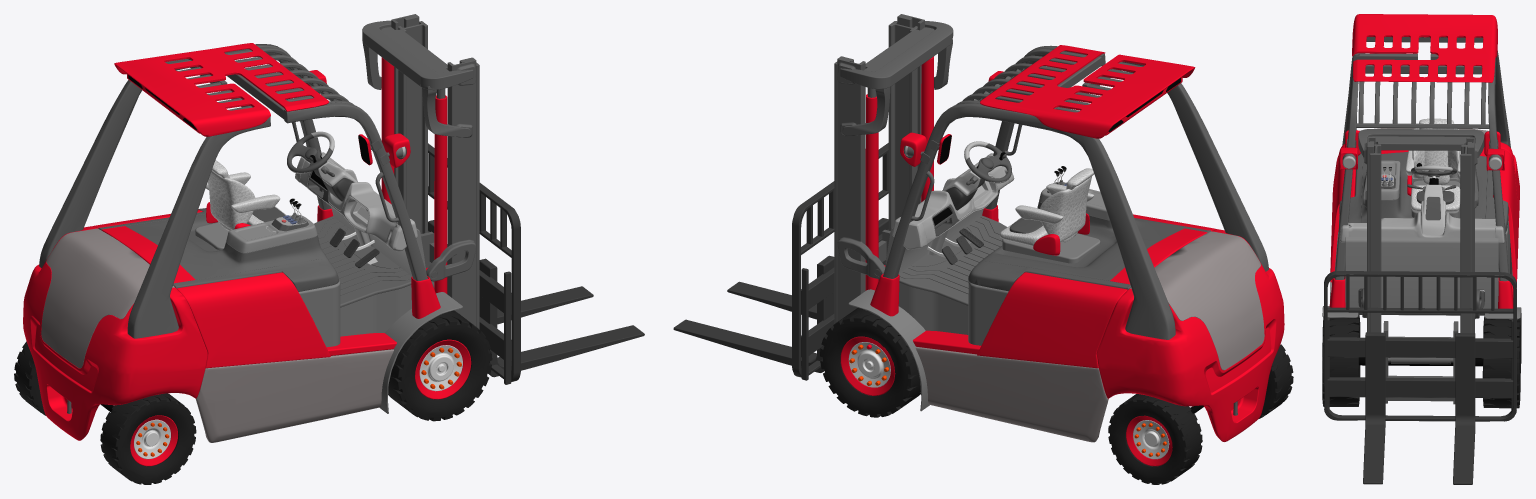
The model's file is forklift-optimized.glb.
The picture shows the model from 3 angles, left to right: view 1: azimuth 30°, elevation 25°; view 2: azimuth 150°, elevation 25°; view 3: azimuth 270°, elevation 25°; orthographic projection. The views are drawn at different scales.
Visible parts, largest first — view 1: 身6 (×4), 门架 (×9), 轮 (×7), 特别 (×3), 一电 (×5), 预设值, 货叉 (×5), 骨架, 板 (×2), 最终操作台, 身5; view 2: 身6 (×4), 门架 (×9), 轮 (×7), 特别 (×3), 一电 (×5), 预设值, 货叉 (×5), 骨架, 板 (×2), 最终操作台, 身5; view 3: 货叉 (×6), 门架 (×8), 新内饰1 (×3), 预设值, 一电 (×9), 特别 (×3), 轮 (×2), 护顶架 (×9), 身6 (×3), 最终操作台, 身5 (×2), 骨架 (+2 smaller).
Boxes of the visible parts, <box> form: 身6 (×4): <box>23,226,393,442</box>; 门架 (×9): <box>362,14,479,329</box>; 轮 (×7): <box>14,310,492,484</box>; 特别 (×3): <box>39,44,427,338</box>; 一电 (×5): <box>101,171,338,291</box>; 预设值: <box>114,43,328,136</box>; 货叉 (×5): <box>428,143,644,384</box>; 骨架: <box>298,280,462,413</box>; 板 (×2): <box>314,216,411,355</box>; 最终操作台: <box>295,152,417,276</box>; 身5: <box>411,276,440,318</box>; 身6 (×4): <box>915,229,1284,442</box>; 门架 (×9): <box>834,14,953,323</box>; 轮 (×7): <box>820,308,1293,484</box>; 特别 (×3): <box>883,45,1268,339</box>; 一电 (×5): <box>968,176,1207,291</box>; 预设值: <box>980,45,1195,138</box>; 货叉 (×5): <box>673,143,888,380</box>; 骨架: <box>848,281,1008,411</box>; 板 (×2): <box>899,215,1007,354</box>; 最终操作台: <box>892,153,1014,274</box>; 身5: <box>870,273,899,316</box>; 货叉 (×6): <box>1324,271,1516,484</box>; 门架 (×8): <box>1358,129,1484,401</box>; 新内饰1 (×3): <box>1345,184,1498,315</box>; 预设值: <box>1352,14,1497,82</box>; 一电 (×9): <box>1339,118,1508,232</box>; 特别 (×3): <box>1334,51,1510,281</box>; 轮 (×2): <box>1322,315,1520,408</box>; 护顶架 (×9): <box>1355,37,1488,128</box>; 身6 (×3): <box>1330,142,1519,282</box>; 最终操作台: <box>1339,212,1504,243</box>; 身5 (×2): <box>1329,276,1513,308</box>; 骨架: <box>1322,215,1521,363</box>.
Bounding box in the file's own units: 0.2801 × 0.1662 × 0.1029.
Materials: 31 (1 with a texture image).
